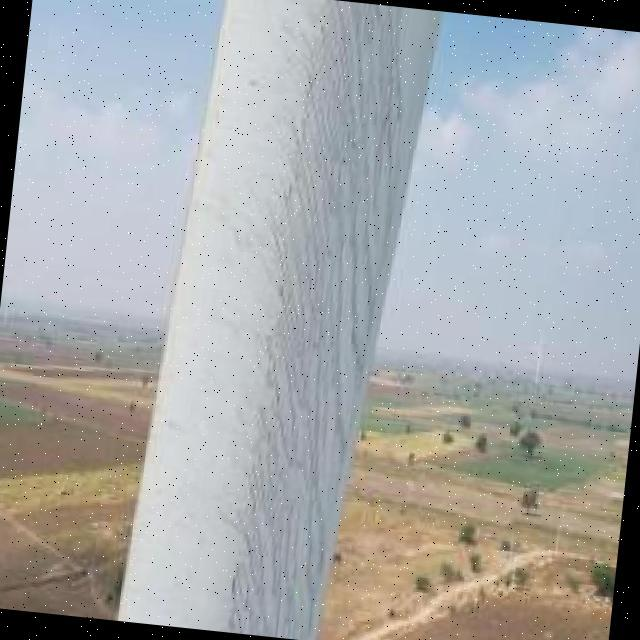Dirt: (219, 5, 422, 640)
